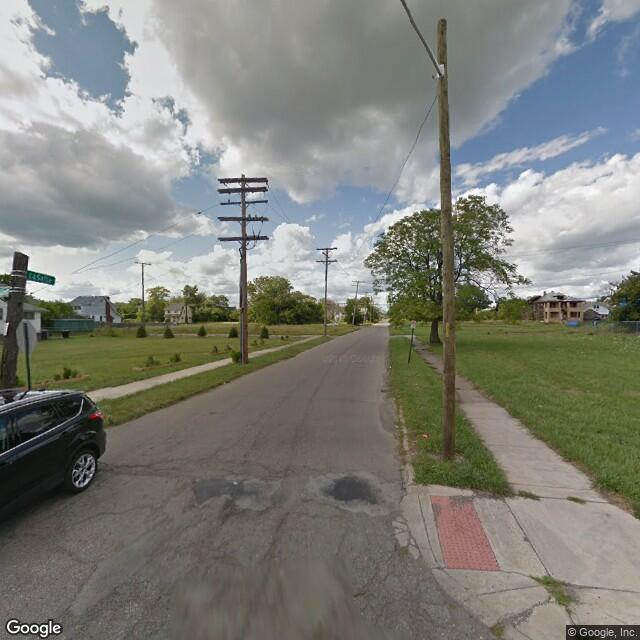litter: (415, 433, 429, 439)
